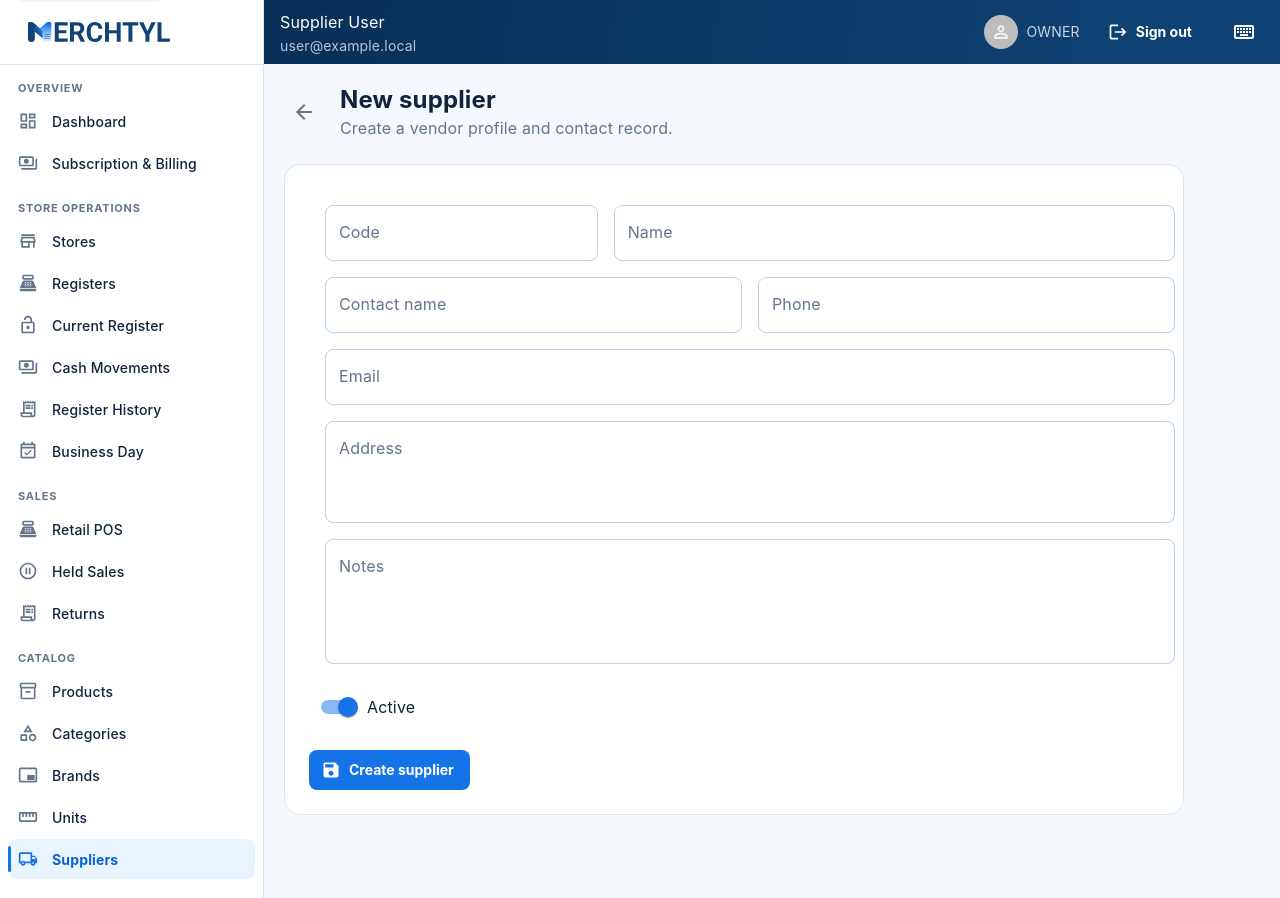
it: Supplier pages › creates a supplier and opens the edit page
Expected: the heading "New supplier" is shown, [340,85,496,114]
Type "global" into the field labelled "Code" at (461, 233), box [325,205,598,261]
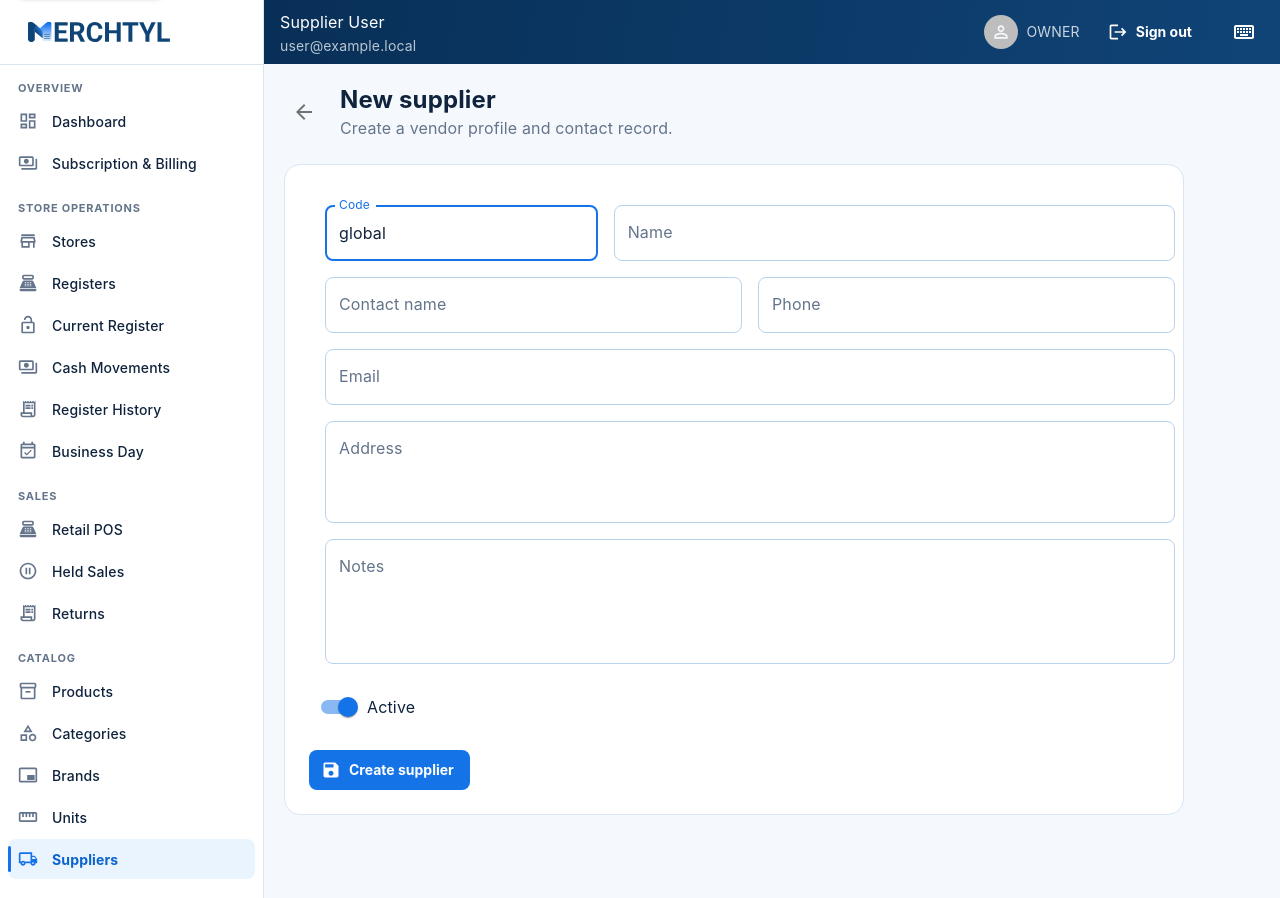
Type "Global Supply" into the field labelled "Name" at (894, 233), box [614,205,1175,261]
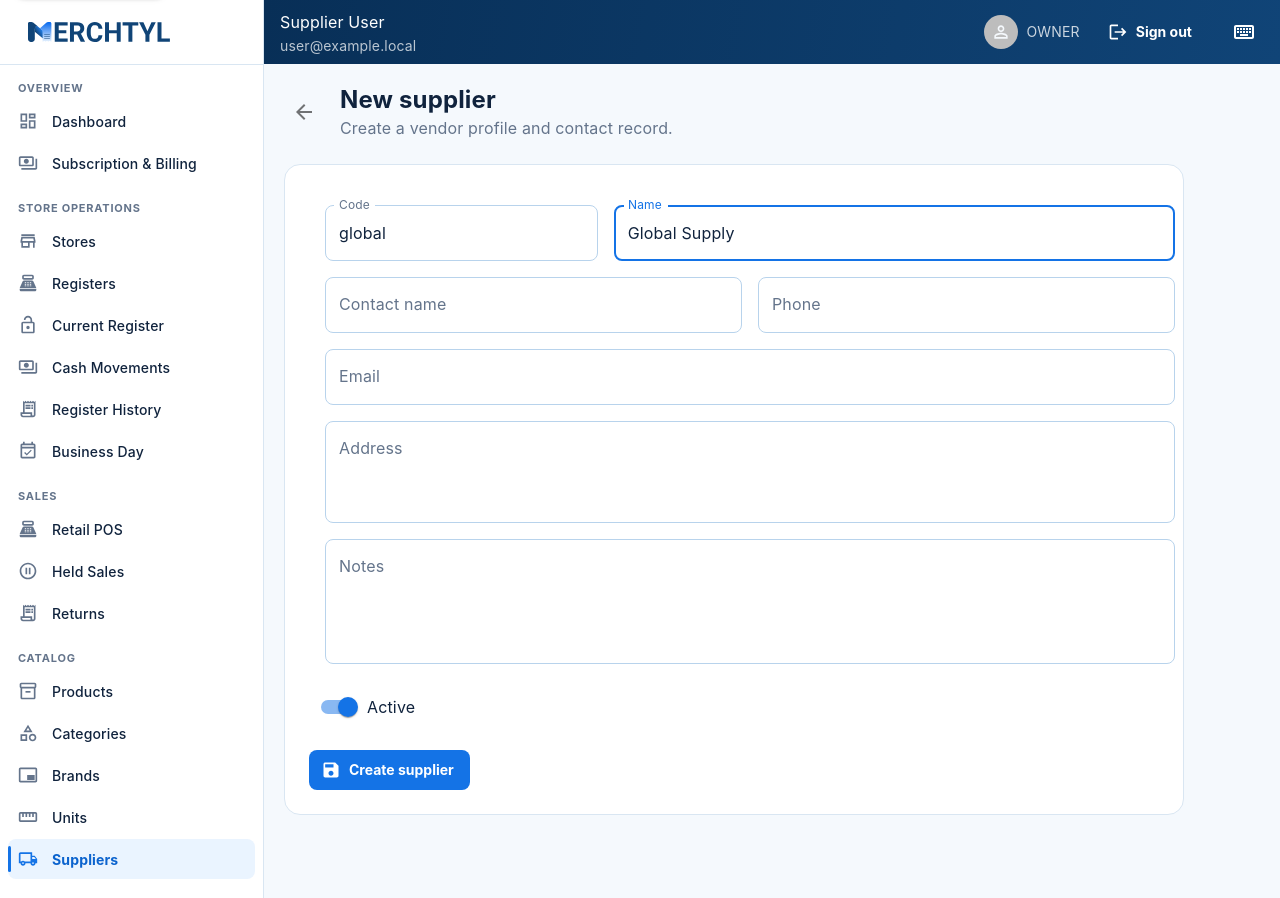
Type "Order Desk" into the field labelled "Contact name" at (534, 305), box [325,277,742,333]
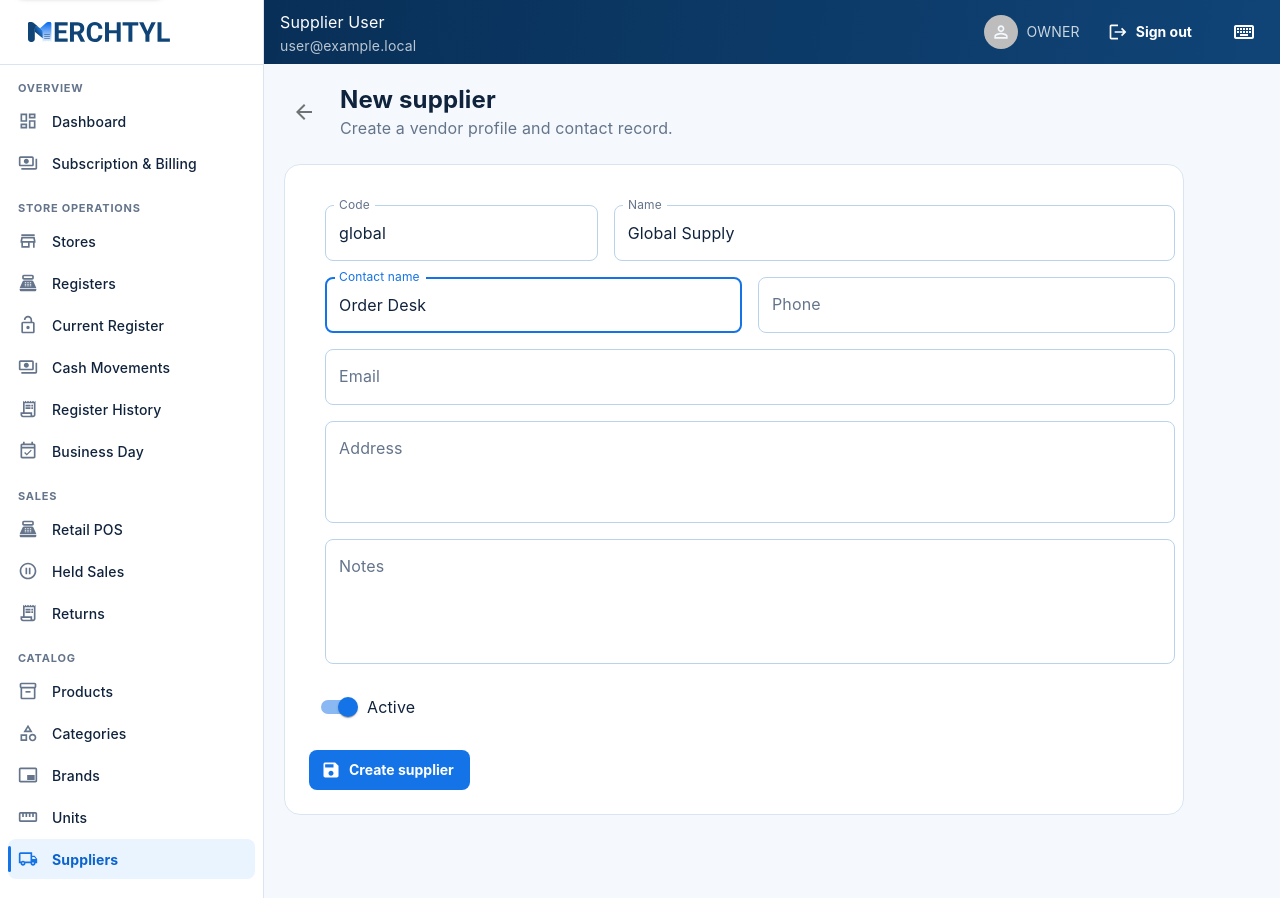
Type "orders@global.example" into the field labelled "Email" at (750, 377), box [325,349,1175,405]
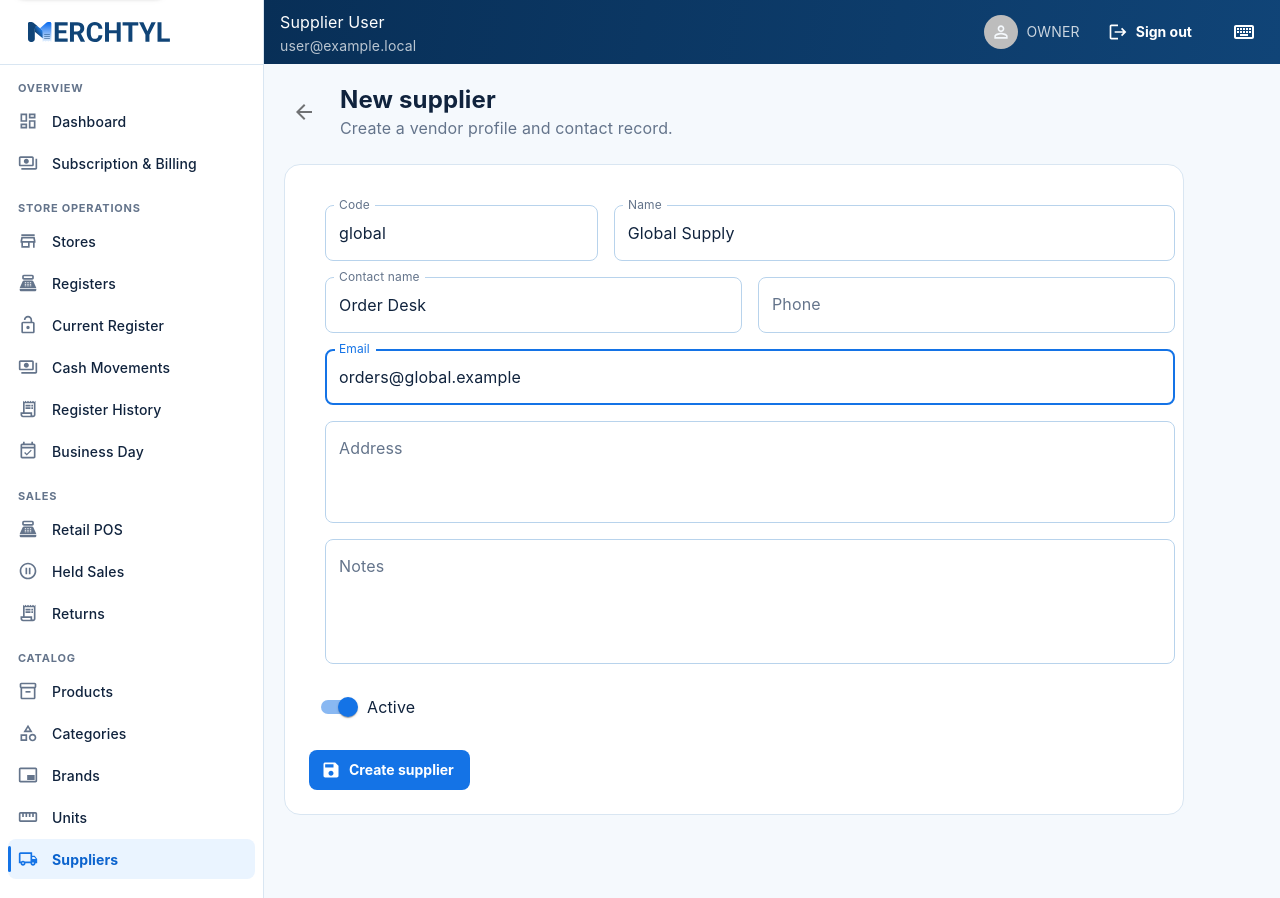
Click the button "Create supplier" at (389, 770), box [309,750,470,790]
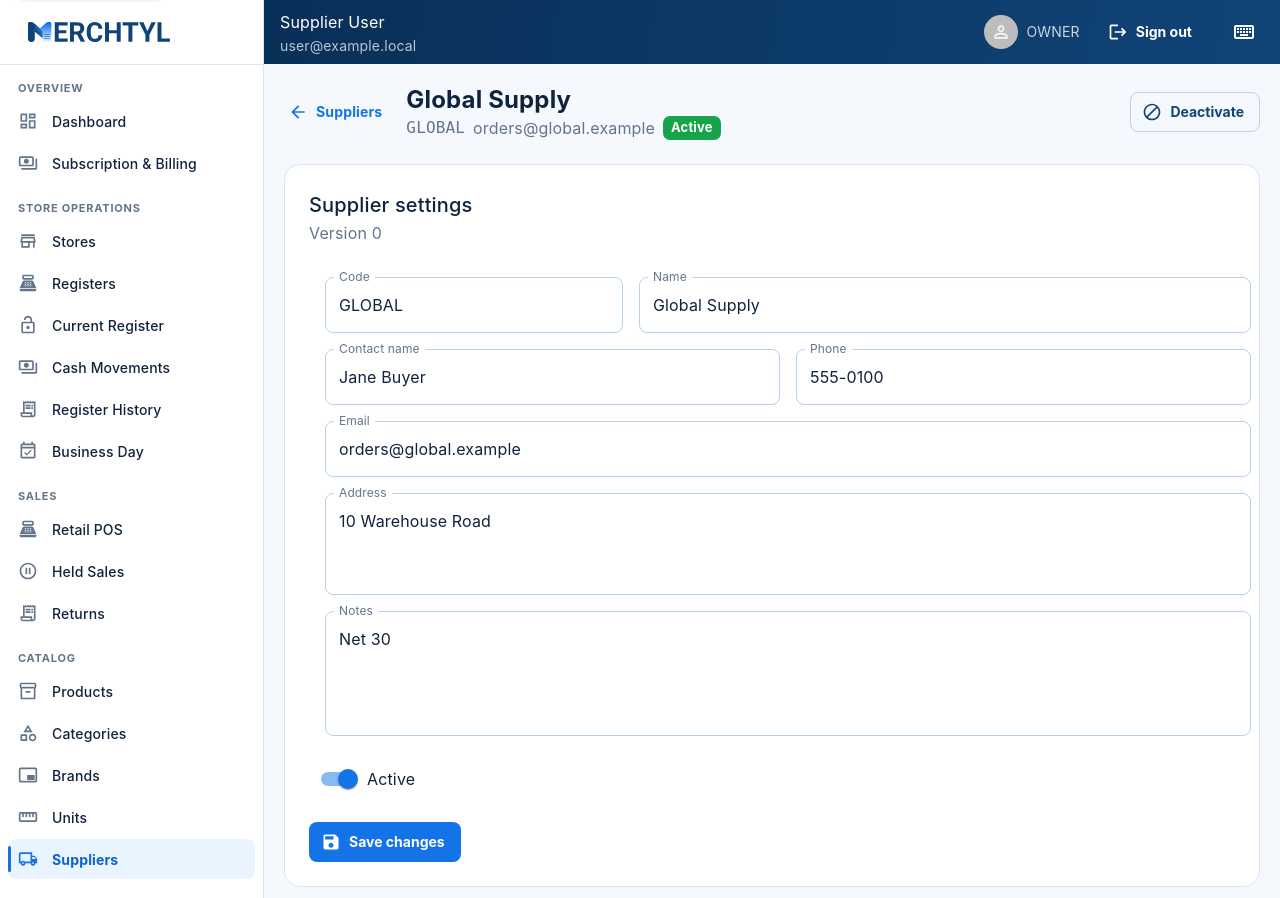
Result: the heading "Global Supply" is shown at [406,85,571,114]
